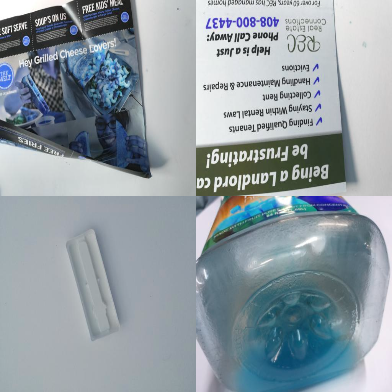paper: (196, 1, 348, 195), (1, 1, 154, 178)
plastic: (196, 196, 392, 389)
trash: (65, 229, 122, 341)
